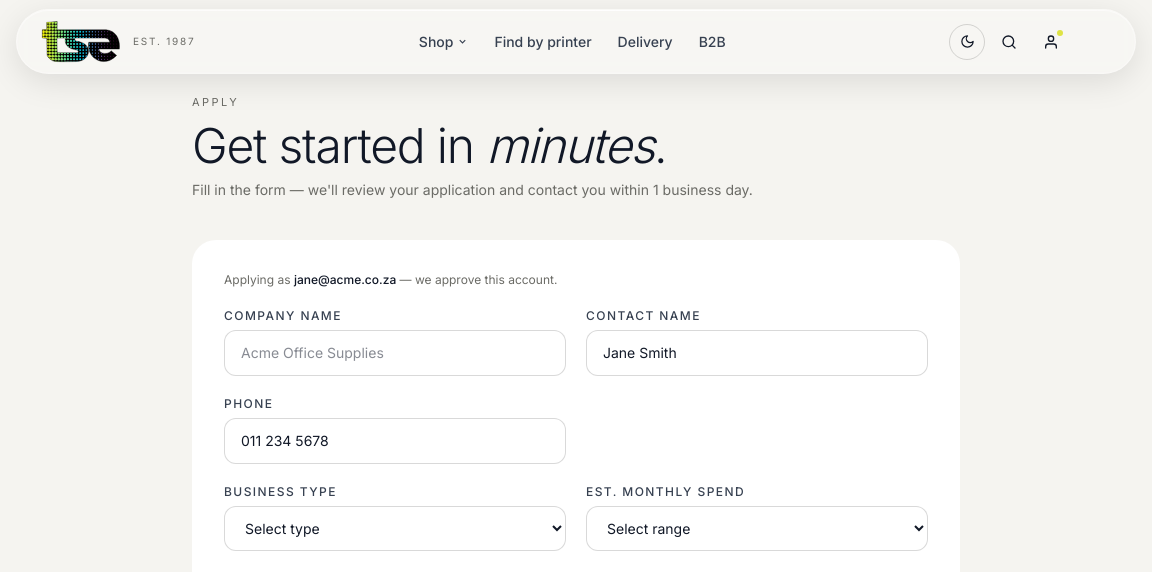
Scenario: B2B application › asks the customer to sign in again when the session has expired
This screenshot has width=1152, height=572.
(page scrolled)
Step 1. Type "Acme" into the field with placeholder "Acme Office Supplies" → (395, 353), box [224, 330, 566, 376]
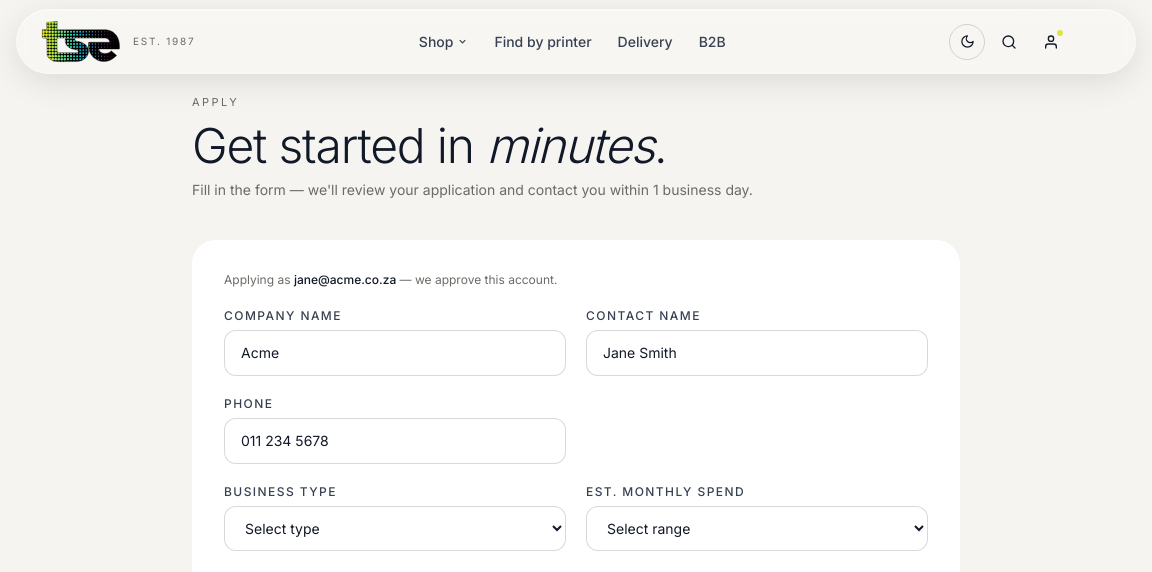
Step 2. Select "Other" in the dropdown below "Business type" → (395, 529), box [224, 506, 566, 551]
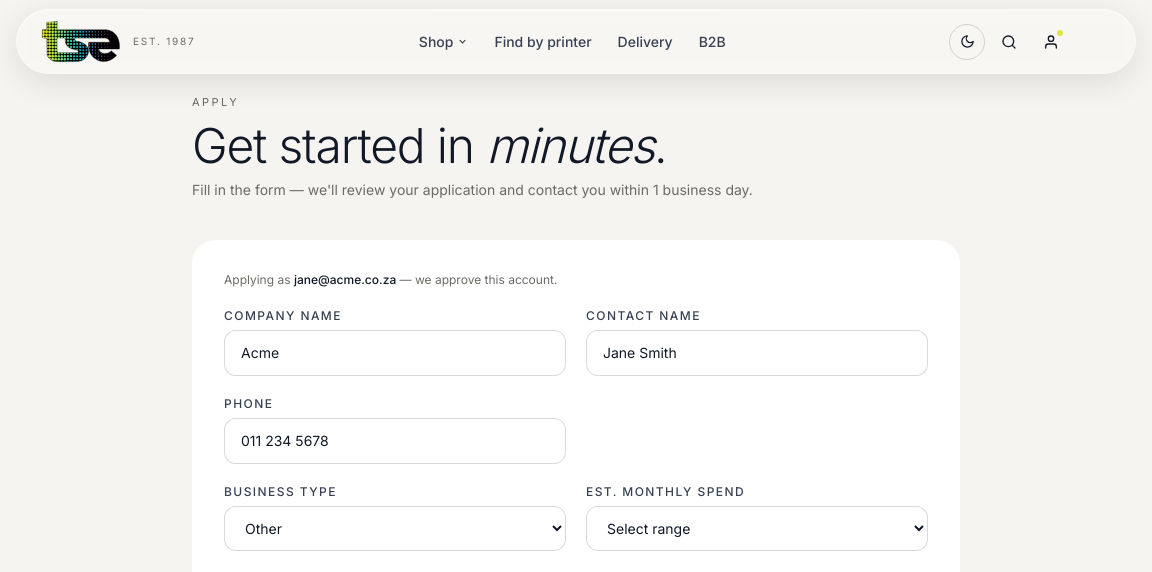
Step 3. Select "R10 000+" in the dropdown below "Est. monthly spend" → (757, 529), box [586, 506, 928, 551]
(page scrolled)
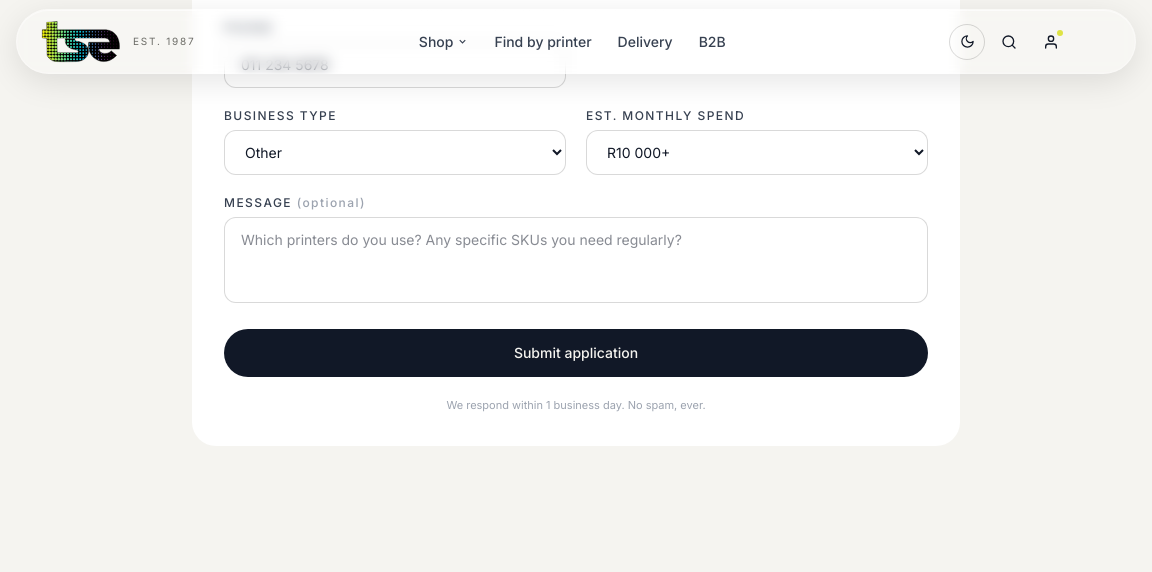
Step 4. Click the button "Submit application" → click(576, 353), box [224, 329, 928, 377]
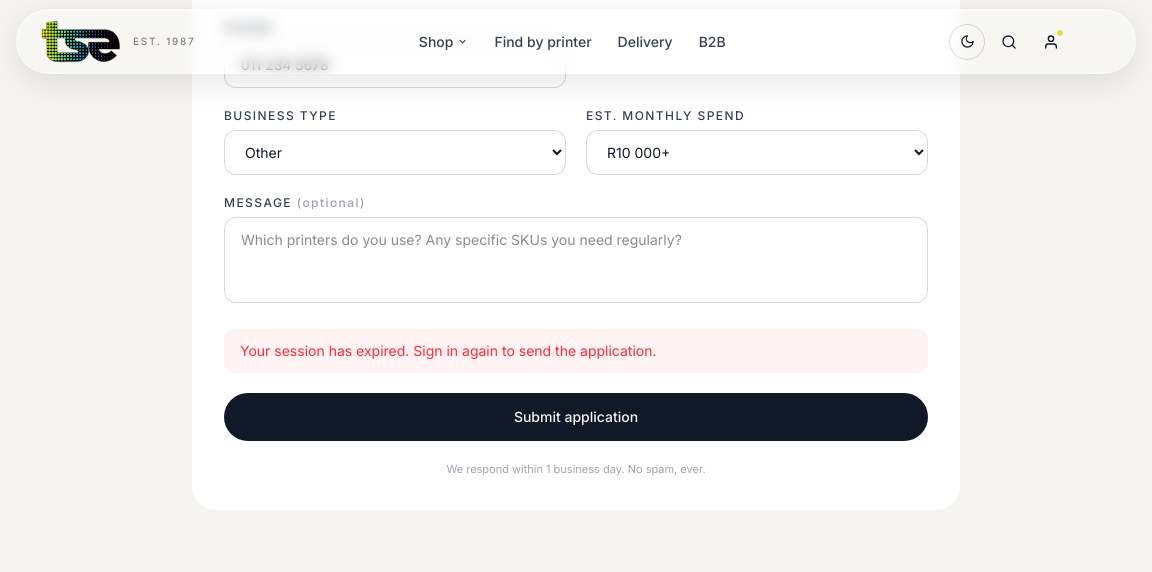
Result: the text "session has expired" is shown at [240, 342, 656, 359]
